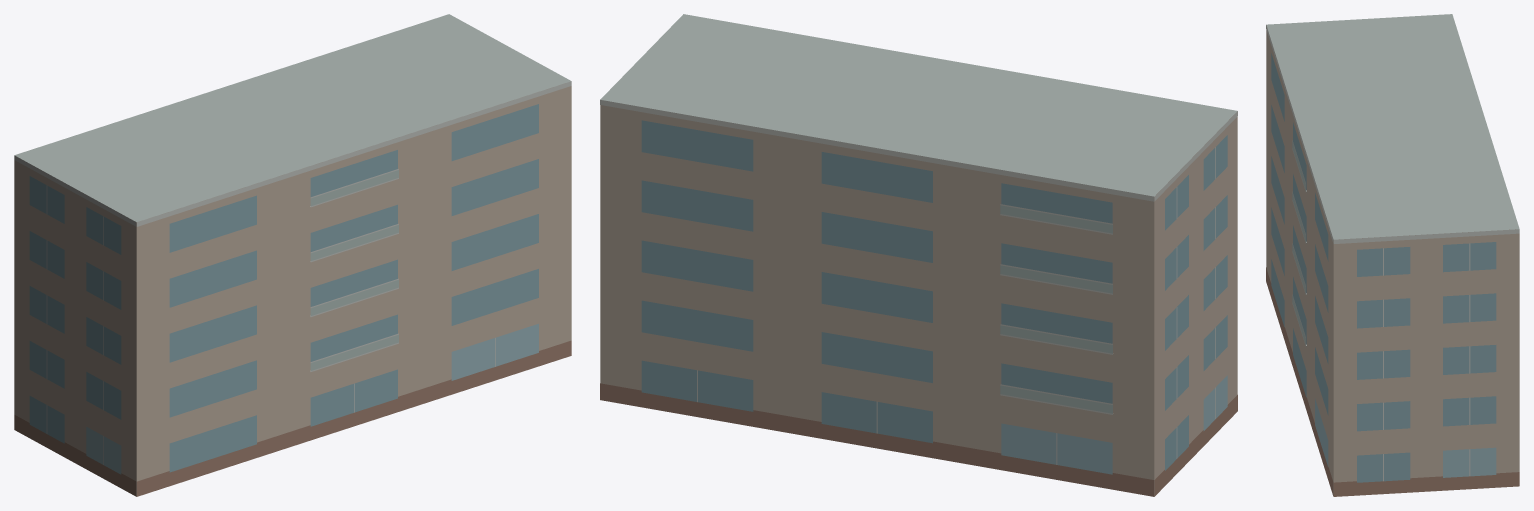
File: survey-upis-32924617.glb
The picture shows the model from 3 angles, left to right: view 1: azimuth 30°, elevation 25°; view 2: azimuth 150°, elevation 25°; view 3: azimuth 270°, elevation 25°; orthographic projection. The views are drawn at different scales.
Visible parts, largest first — view 1: survey-upis-32924617.tmp; view 2: survey-upis-32924617.tmp; view 3: survey-upis-32924617.tmp.
Part boxes in pixels (bbox=[...]): survey-upis-32924617.tmp: bbox=[14, 14, 571, 496]; survey-upis-32924617.tmp: bbox=[600, 14, 1237, 496]; survey-upis-32924617.tmp: bbox=[1266, 14, 1519, 496].
Size of the model in its own units: 26.74 by 14.2 by 12.7.
